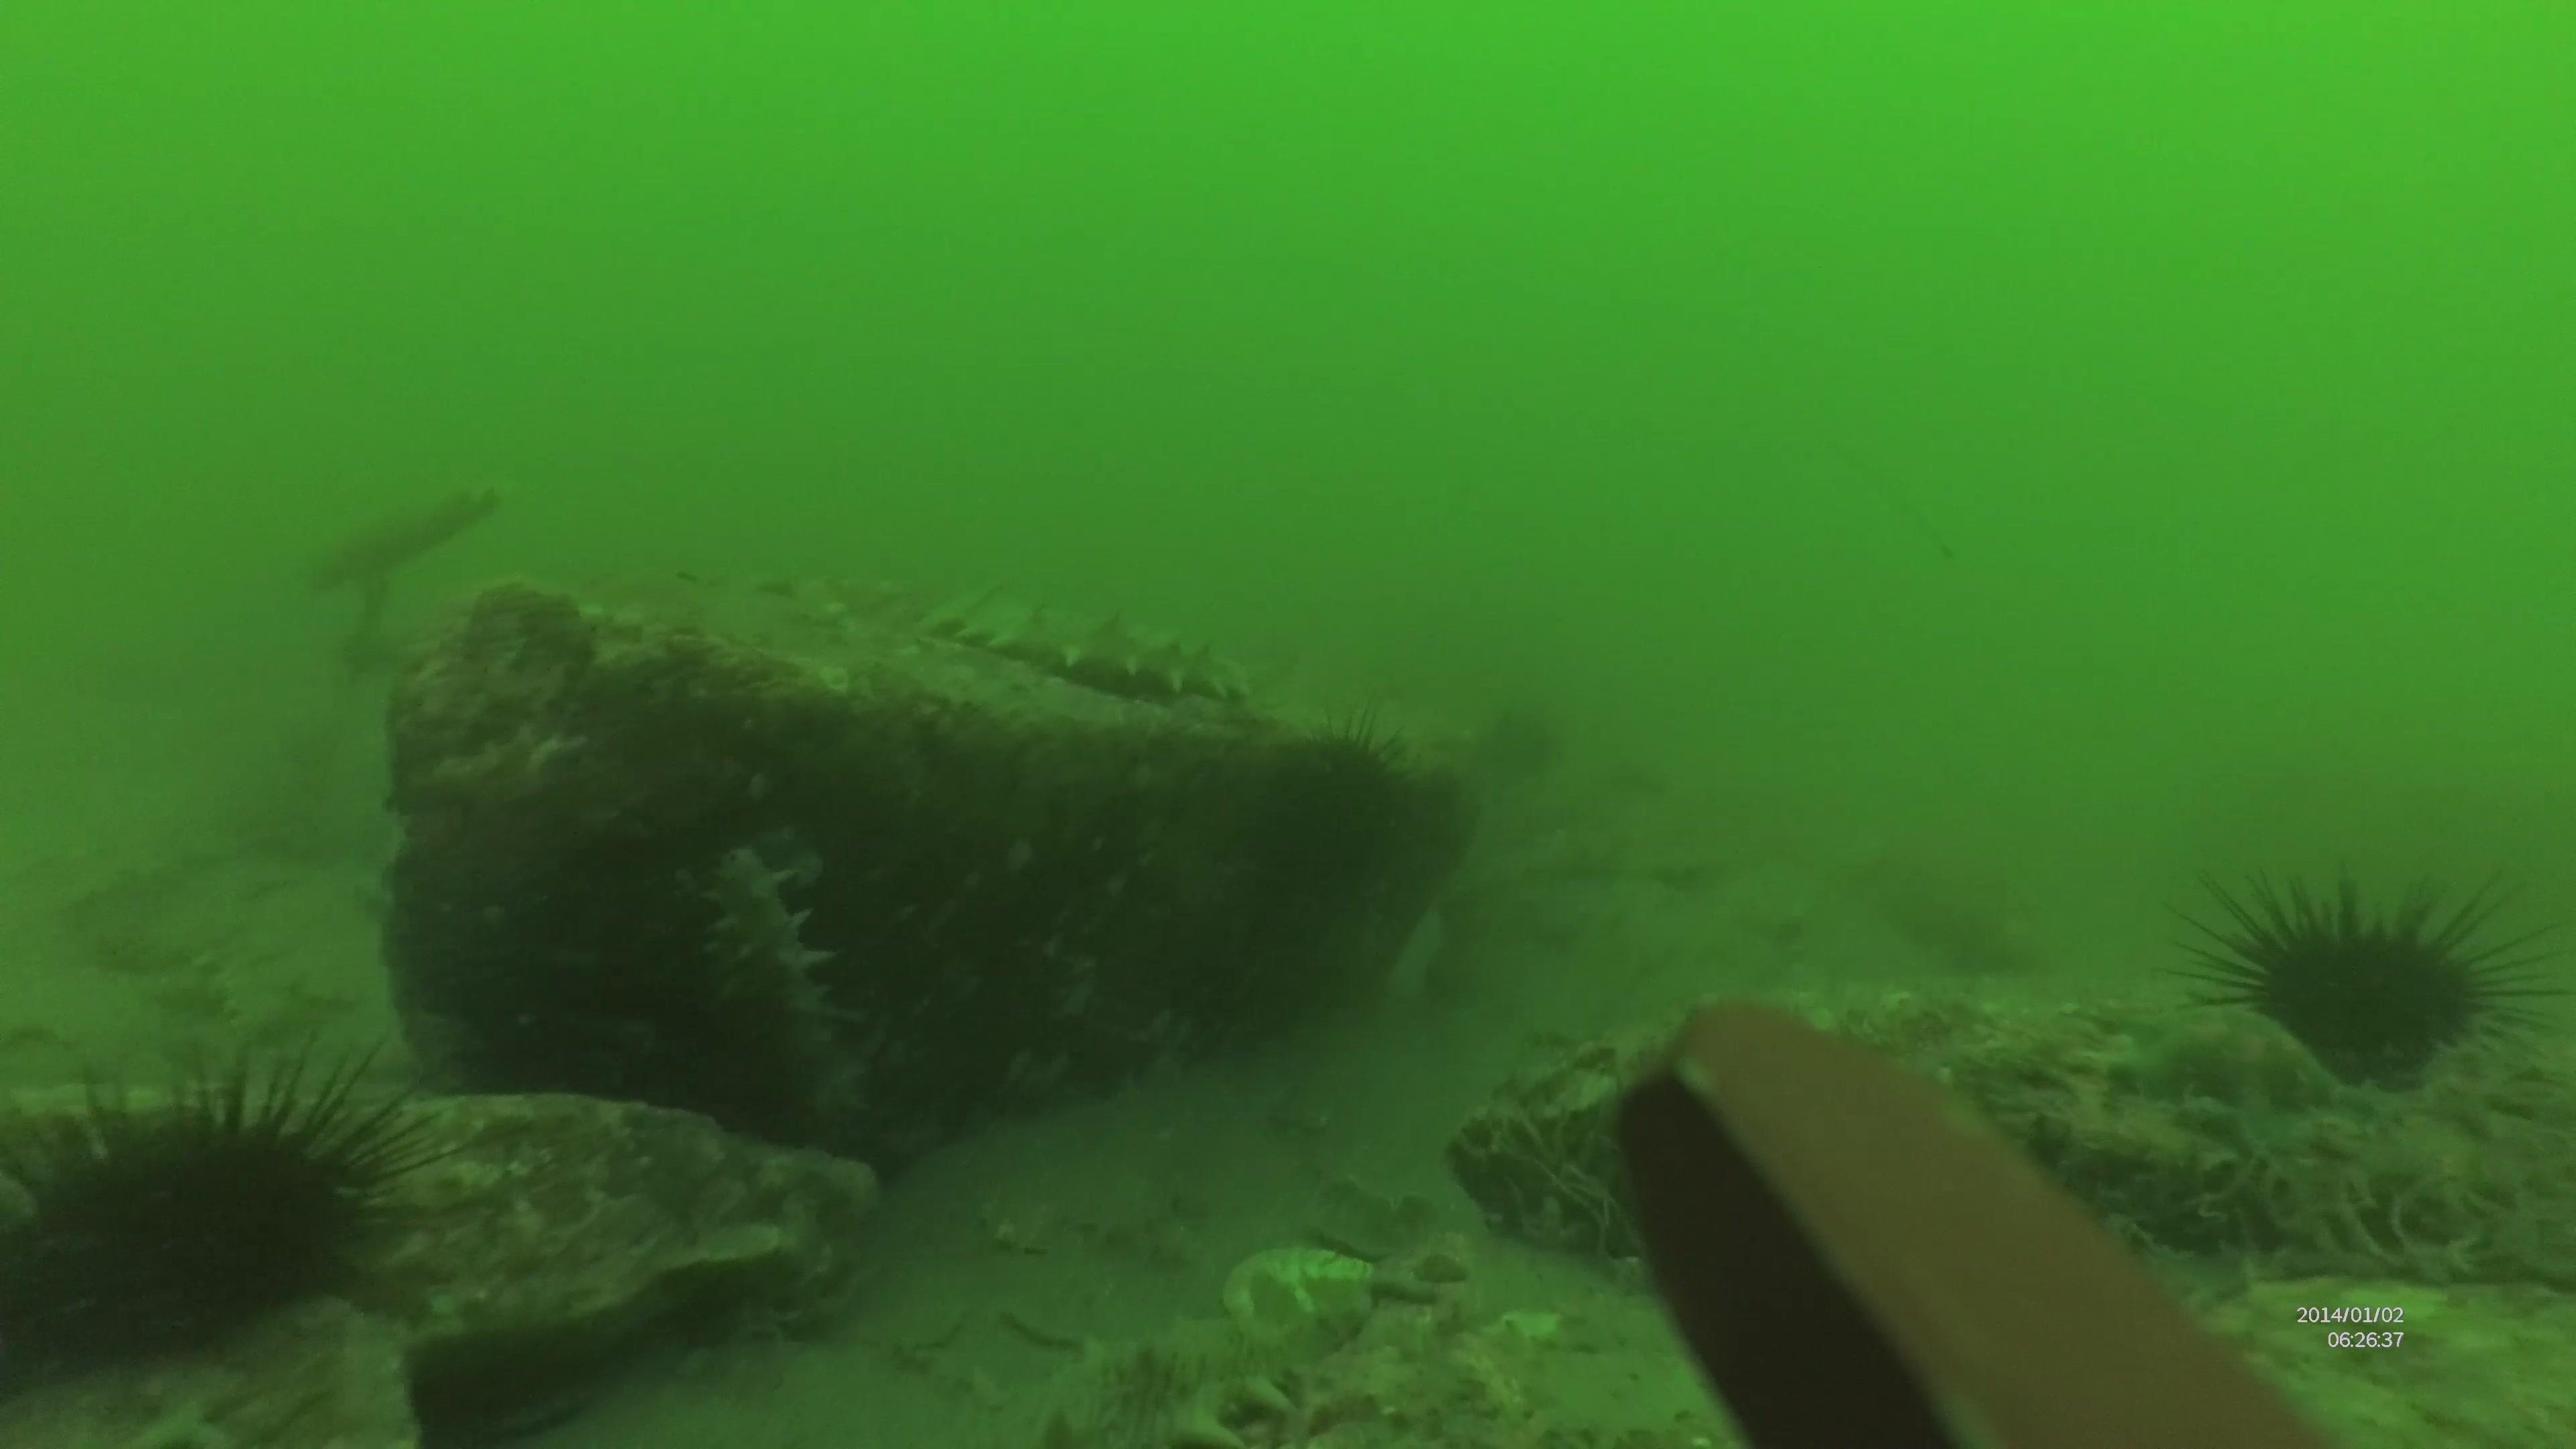echinus: (0, 1021, 472, 1414), (2171, 863, 2576, 1157), (1260, 709, 1424, 904)
holothurian: (697, 844, 878, 1132), (950, 1316, 1311, 1449), (924, 579, 1254, 709)
scallop: (1219, 1244, 1384, 1355)
